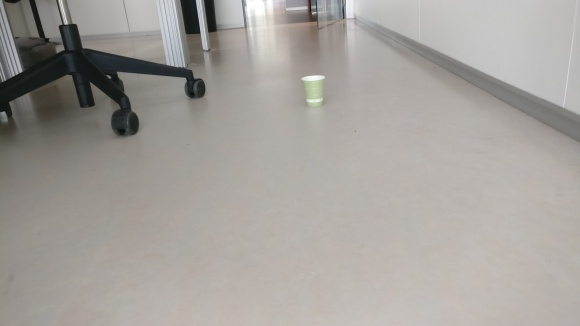cup: (300, 74, 327, 108)
